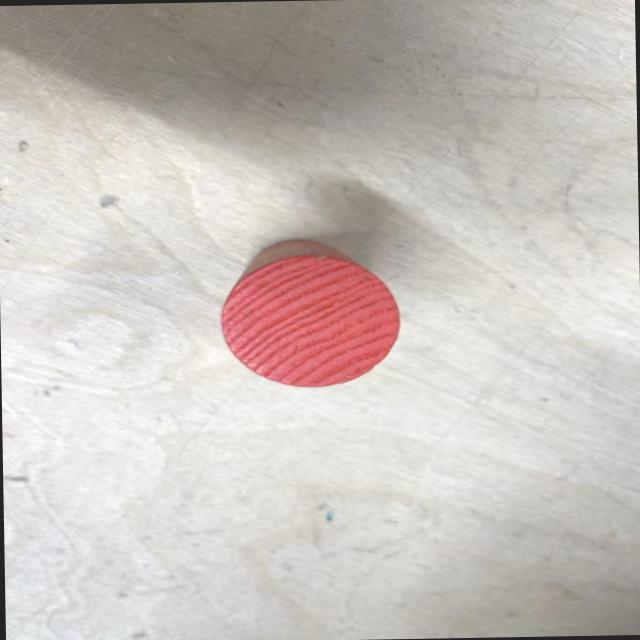red_cylinder: (220, 236, 402, 389)
